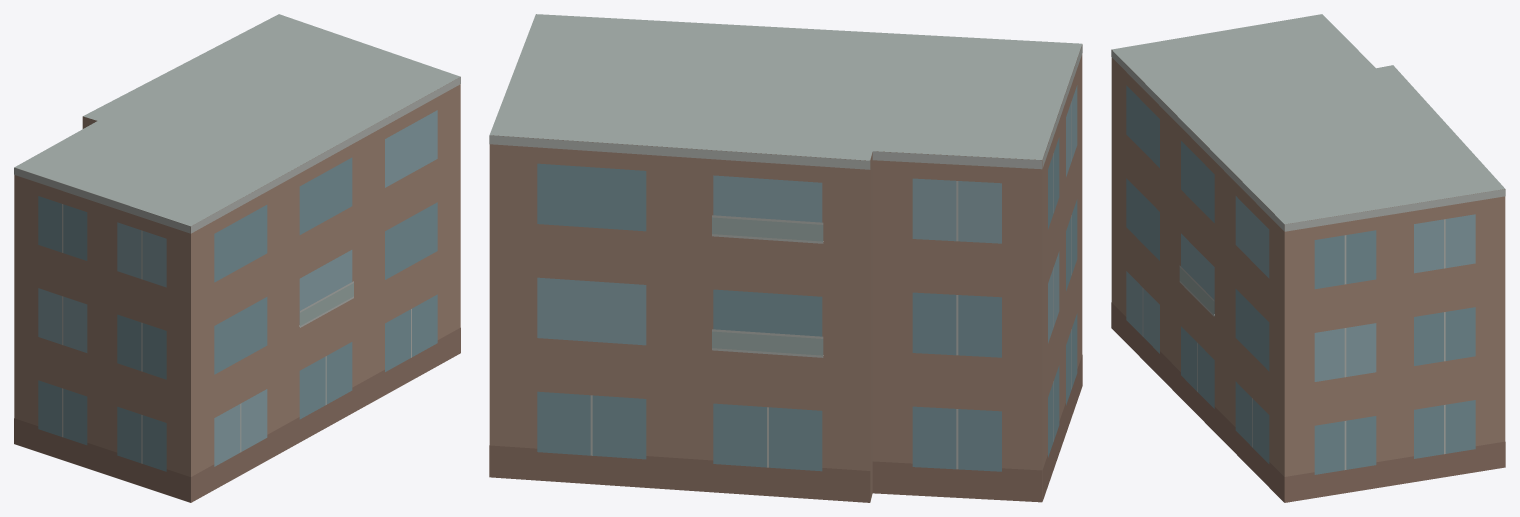
Rendered from survey-upis-32889504.glb.
3 renders of one model, left to right at view 1: azimuth 30°, elevation 25°; view 2: azimuth 150°, elevation 25°; view 3: azimuth 270°, elevation 25°, orthographic. The views are drawn at different scales.
Visible parts, largest first — view 1: survey-upis-32889504.tmp; view 2: survey-upis-32889504.tmp; view 3: survey-upis-32889504.tmp.
Part boxes in pixels (left/top/right/bottom): survey-upis-32889504.tmp: left=14, top=14, right=460, bottom=502; survey-upis-32889504.tmp: left=489, top=14, right=1082, bottom=502; survey-upis-32889504.tmp: left=1111, top=14, right=1505, bottom=502.
Bounding box in the file's own units: 14.83 × 9.15 × 11.74.
